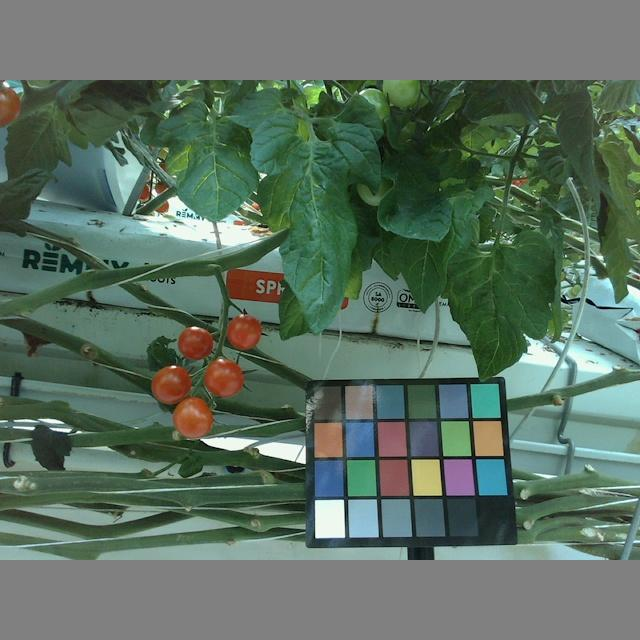green: (353, 88, 395, 129), (381, 81, 423, 110)
pink: (1, 88, 25, 128)
red: (149, 364, 193, 406), (173, 395, 212, 438), (205, 358, 245, 397), (175, 326, 215, 361), (225, 315, 262, 351)
